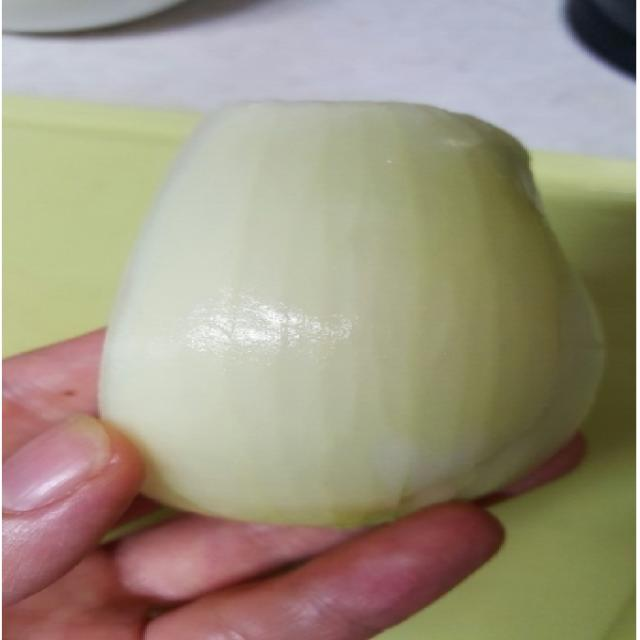onion: (85, 68, 640, 562)
